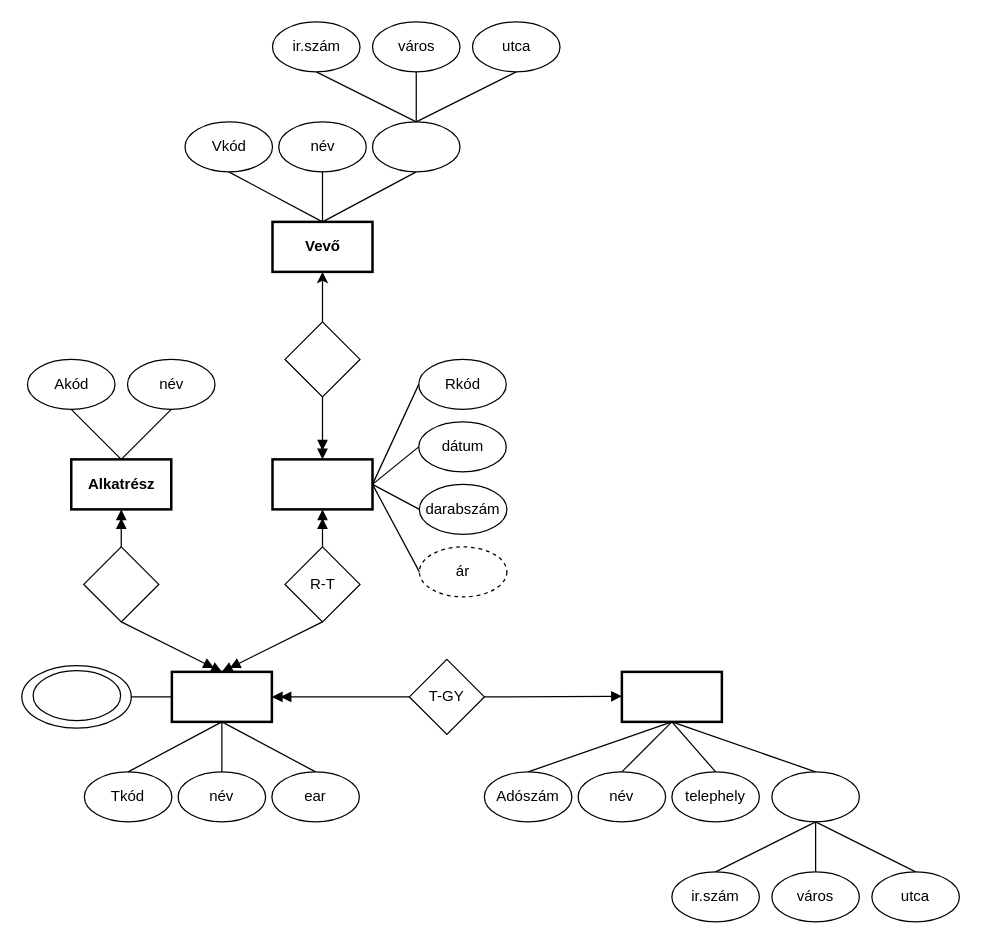
Image size: 981x944. Some labels were removed from this diagram. The centre of each missing label's shape, as x and y in pixels:
"A-T" goes at [120,584].
"csom.egys." goes at [76,695].
"Gyártó" goes at [671,696].
"lakcím" goes at [415,146].
"postai cím" goes at [815,796].
"Rendelés" goes at [322,484].
"Termék" goes at [221,696].
"V-R" goes at [322,359].
